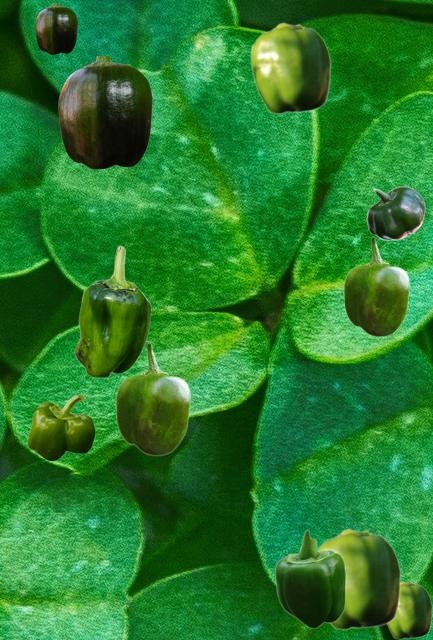bell_pepper: (58, 56, 151, 168), (74, 245, 150, 377), (115, 342, 190, 455), (318, 528, 400, 629), (250, 22, 330, 113), (274, 529, 345, 628), (343, 236, 409, 336), (27, 394, 94, 460), (366, 186, 424, 239), (386, 581, 431, 638), (35, 3, 76, 53)
